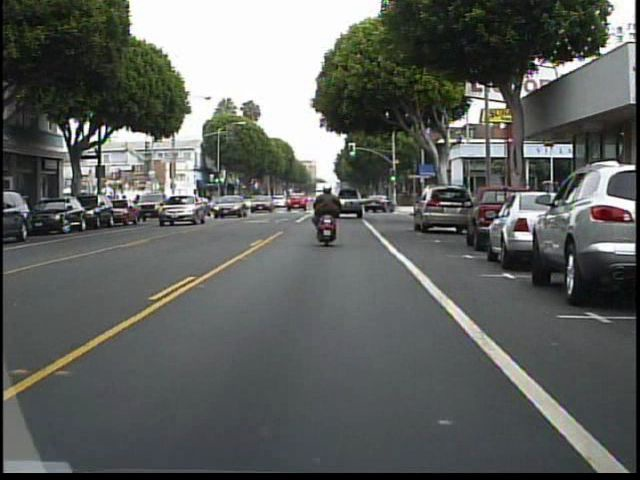person: (309, 180, 346, 247)
